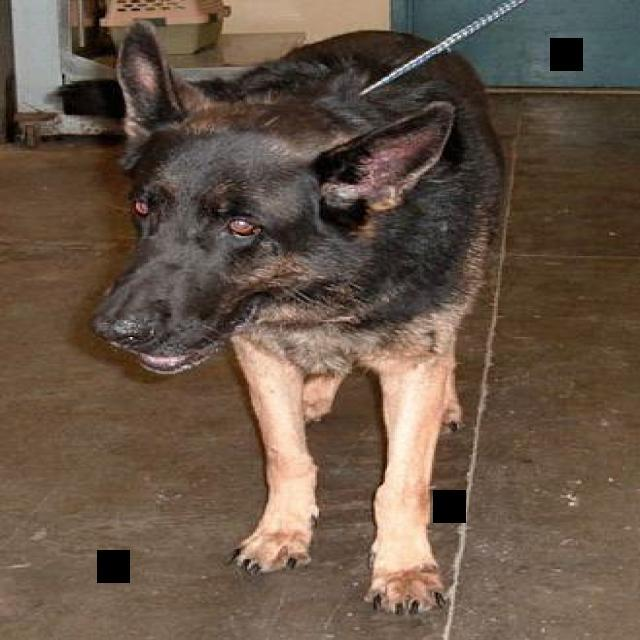adult_dog: (41, 13, 504, 616)
